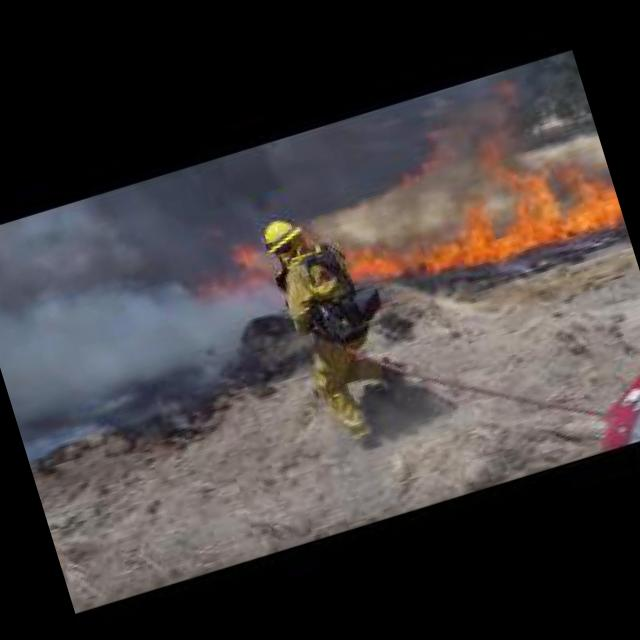fire: (321, 106, 630, 322), (192, 232, 268, 296)
